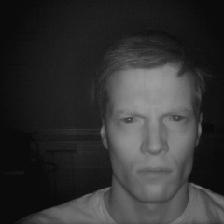normal: (96, 41, 203, 205)
